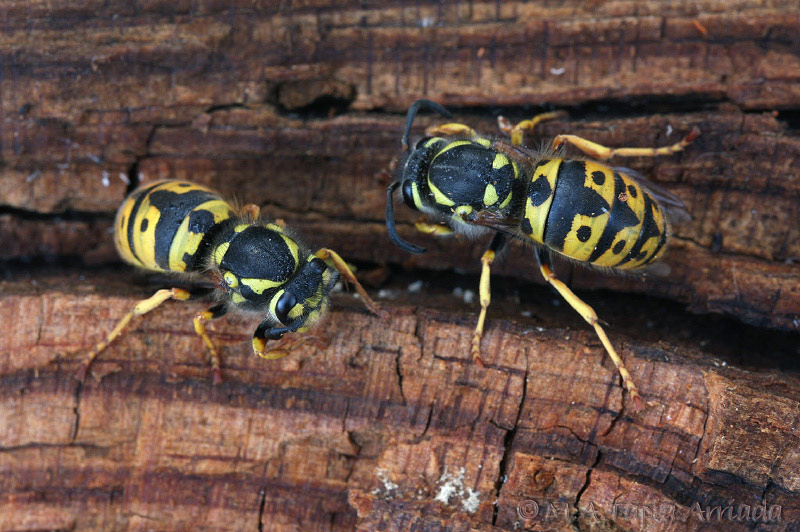chax: (382, 87, 707, 404), (64, 147, 368, 414)
